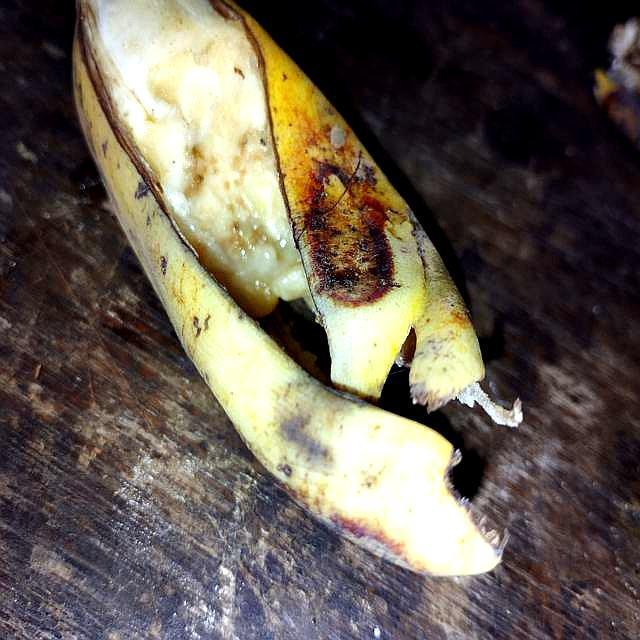Biodegradable: (26, 1, 572, 640)
